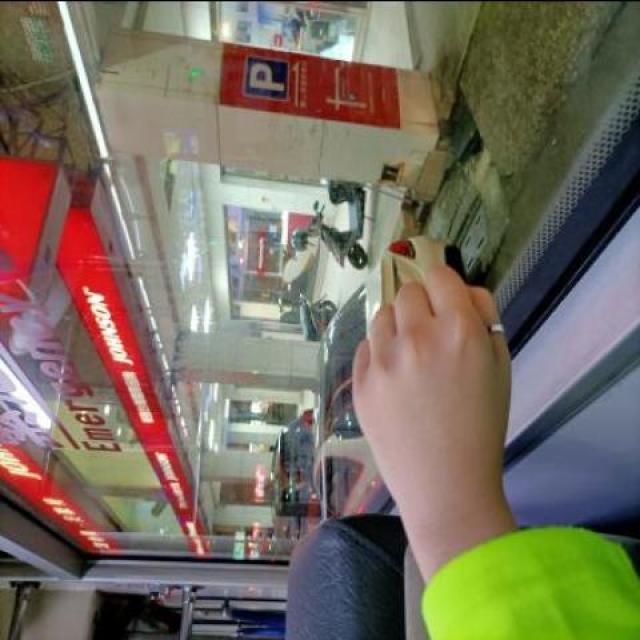Closed Hand: (345, 266, 518, 519)
